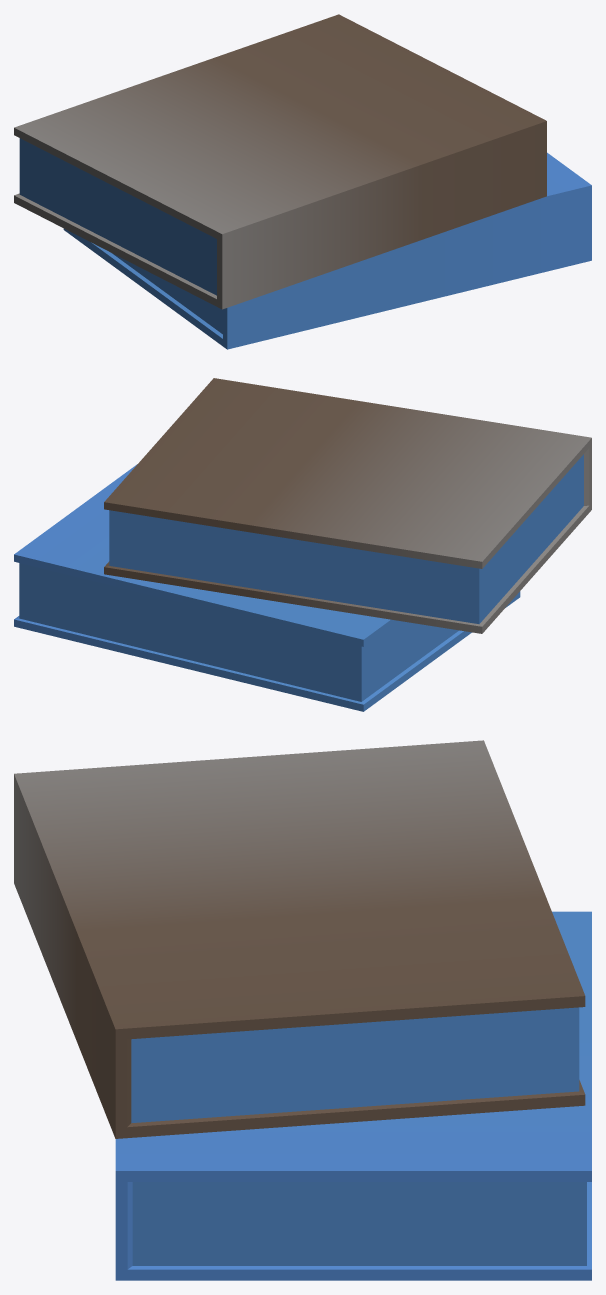
The model's file is LivingRoom2_books_5.fbx.
The picture shows the model from 3 angles, top to bottom: view 1: azimuth 30°, elevation 25°; view 2: azimuth 150°, elevation 25°; view 3: azimuth 270°, elevation 25°; orthographic projection. The views are drawn at different scales.
Visible parts, largest first — view 1: LivingRoom2_books_5; view 2: LivingRoom2_books_5; view 3: LivingRoom2_books_5.
Part boxes in pixels (left/top/right/bottom): LivingRoom2_books_5: left=14, top=14, right=591, bottom=349; LivingRoom2_books_5: left=14, top=378, right=591, bottom=711; LivingRoom2_books_5: left=14, top=740, right=591, bottom=1280.
Size of the model in its own units: 30.53 by 9.73 by 23.24.
